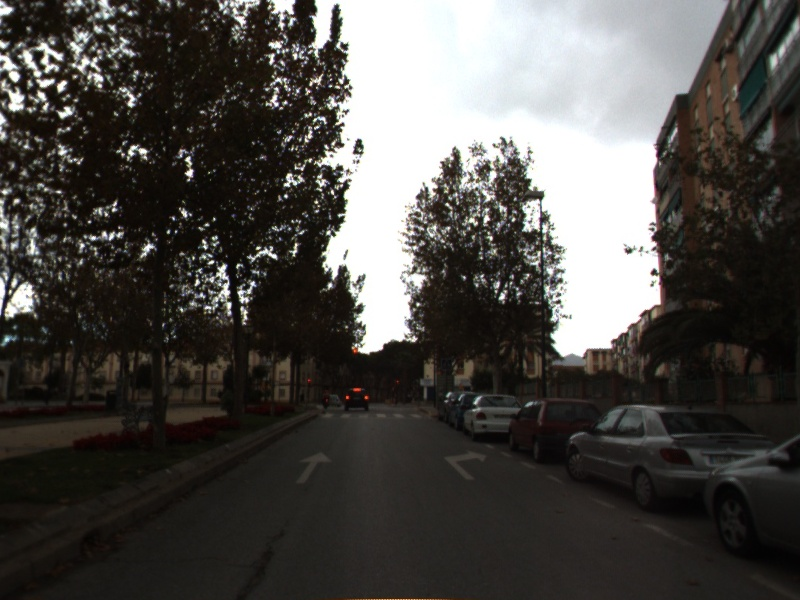RIGHT: (442, 447, 490, 482)
STRAIGHT: (294, 449, 335, 486)
